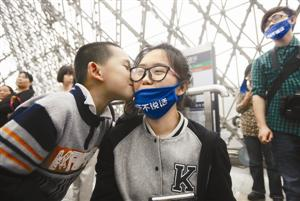NONE: (99, 56, 138, 101), (16, 75, 29, 88), (1, 87, 13, 100), (65, 73, 75, 87)
WRONG: (133, 62, 175, 107), (262, 12, 290, 42)
